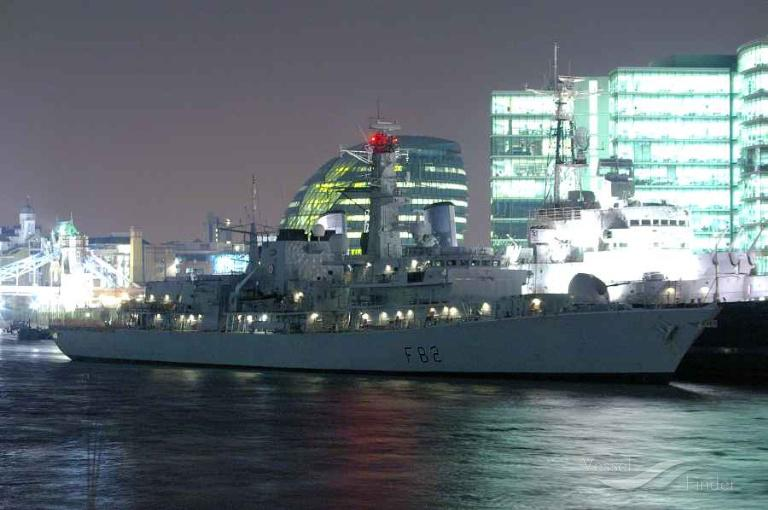OCR: (398, 340, 444, 370)
